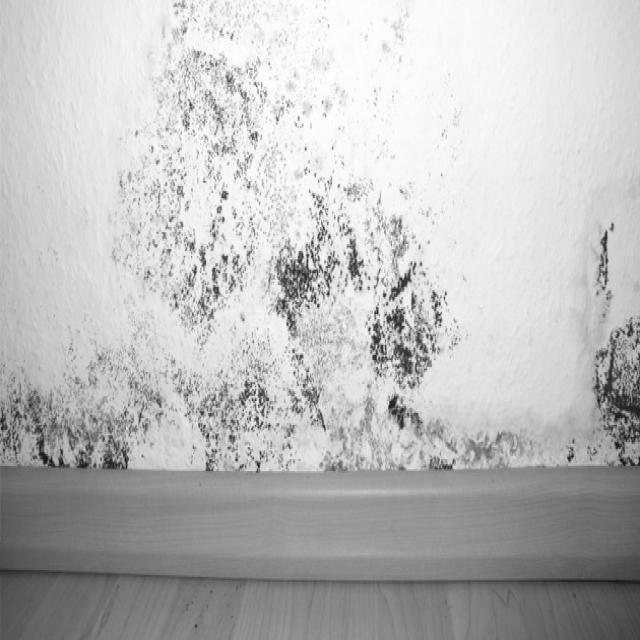stain marks: (65, 0, 473, 390), (0, 389, 535, 467), (567, 185, 640, 470)
